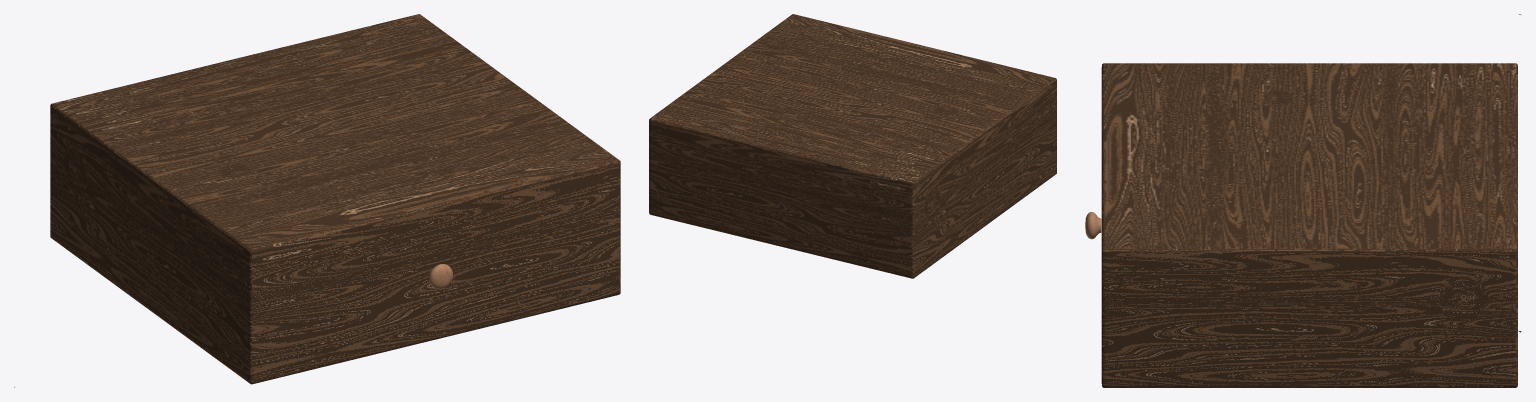
Rendered from cajones.obj.
3 renders of one model, left to right at view 1: azimuth 30°, elevation 25°; view 2: azimuth 150°, elevation 25°; view 3: azimuth 270°, elevation 25°, orthographic. The views are drawn at different scales.
Visible parts, largest first — view 1: Table_Plane_046; view 2: Table_Plane_046; view 3: Table_Plane_046.
Part boxes in pixels (x1,y1,x2,y2): Table_Plane_046: (14,14,620,387); Table_Plane_046: (649,14,1056,278); Table_Plane_046: (1085,14,1521,387).
Size of the model in its own units: 0.4749 by 0.3457 by 0.4292.
